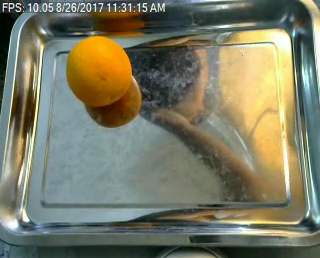Orange: (65, 35, 130, 106)
